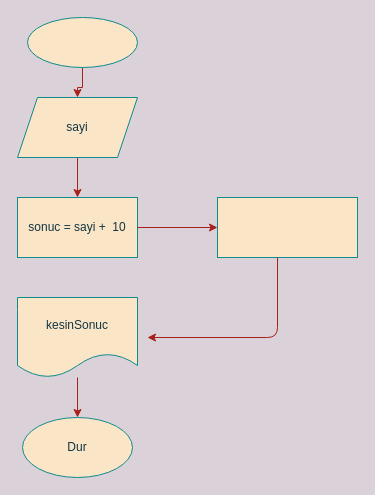
Image size: 375x495. Some labels were removed from this diagram. The centre of each missing label's shape, as x and y in pixels:
Başla: (x=82, y=42)
kesinSonuc = sonuc * 2: (x=287, y=227)
